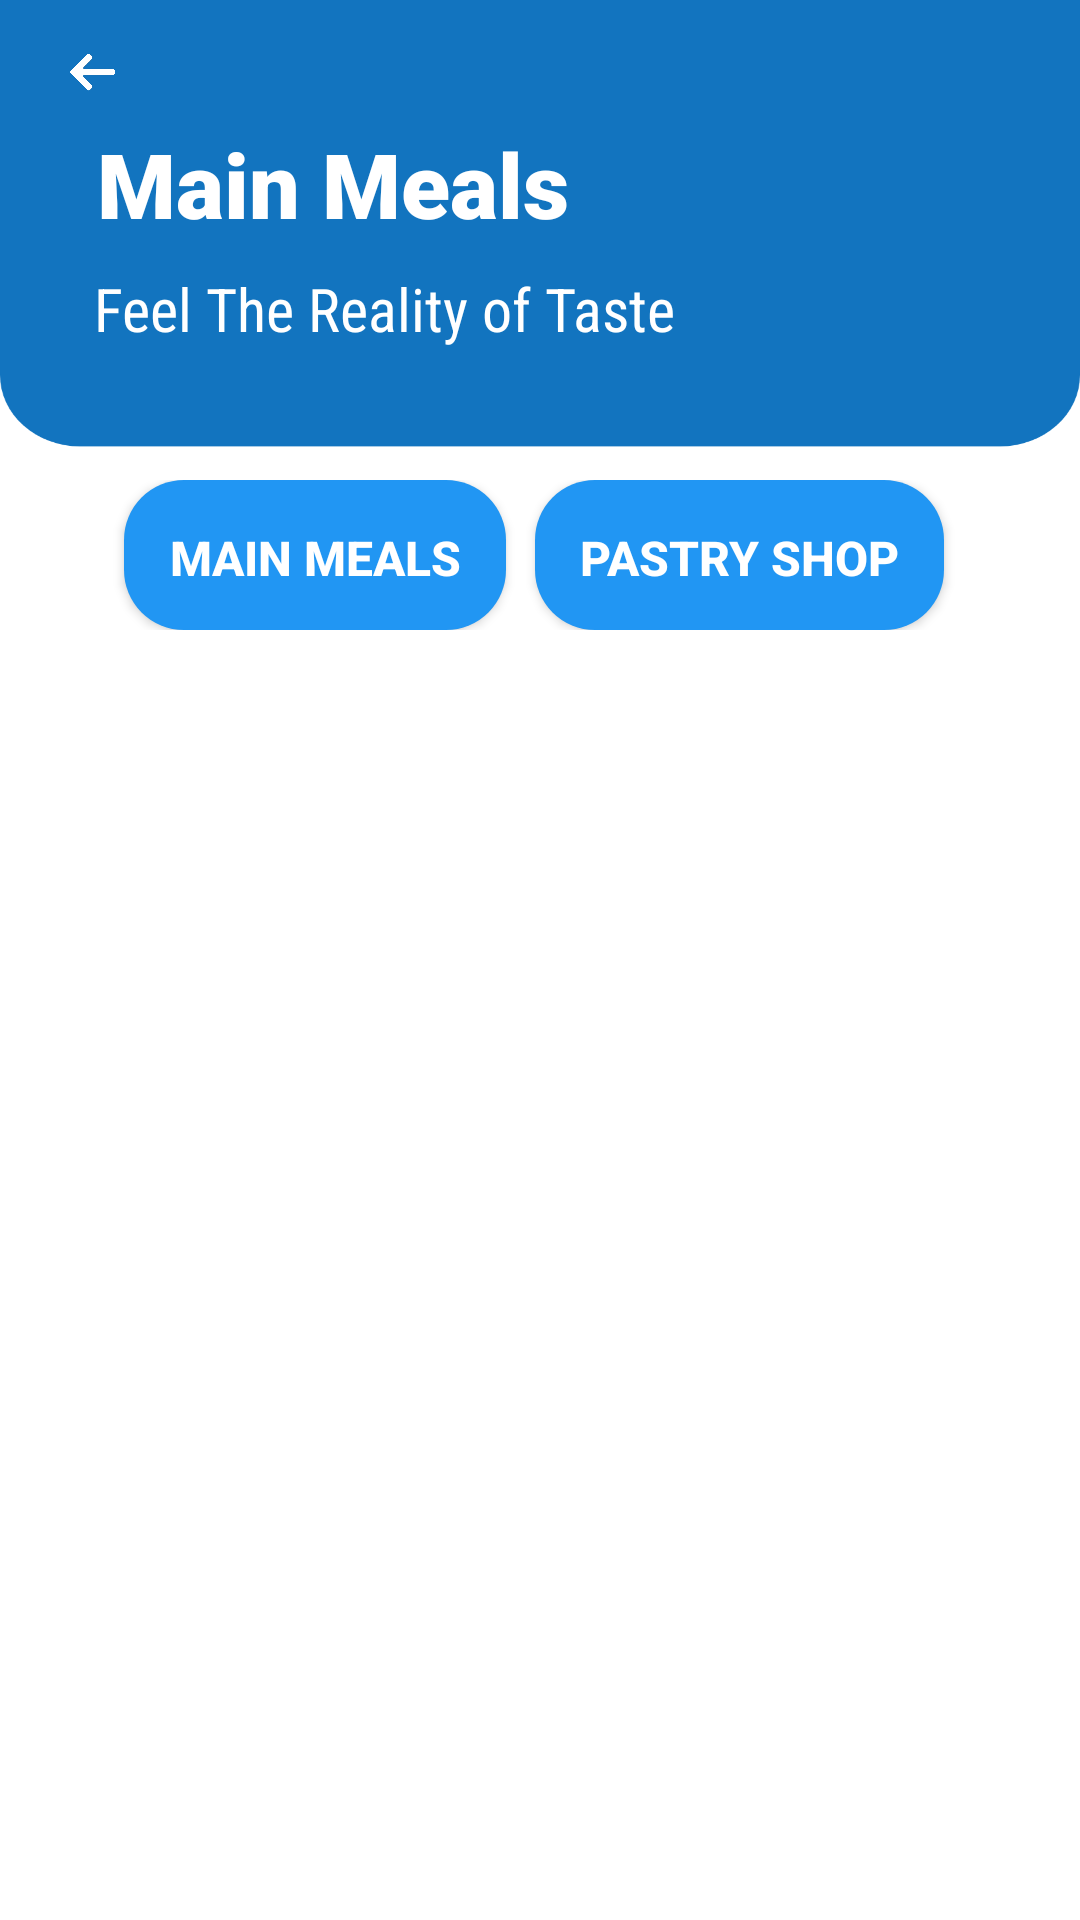

Point at icon controls on the screen. Image size 1080×1920, points as (x,y).
back: (92,72)
